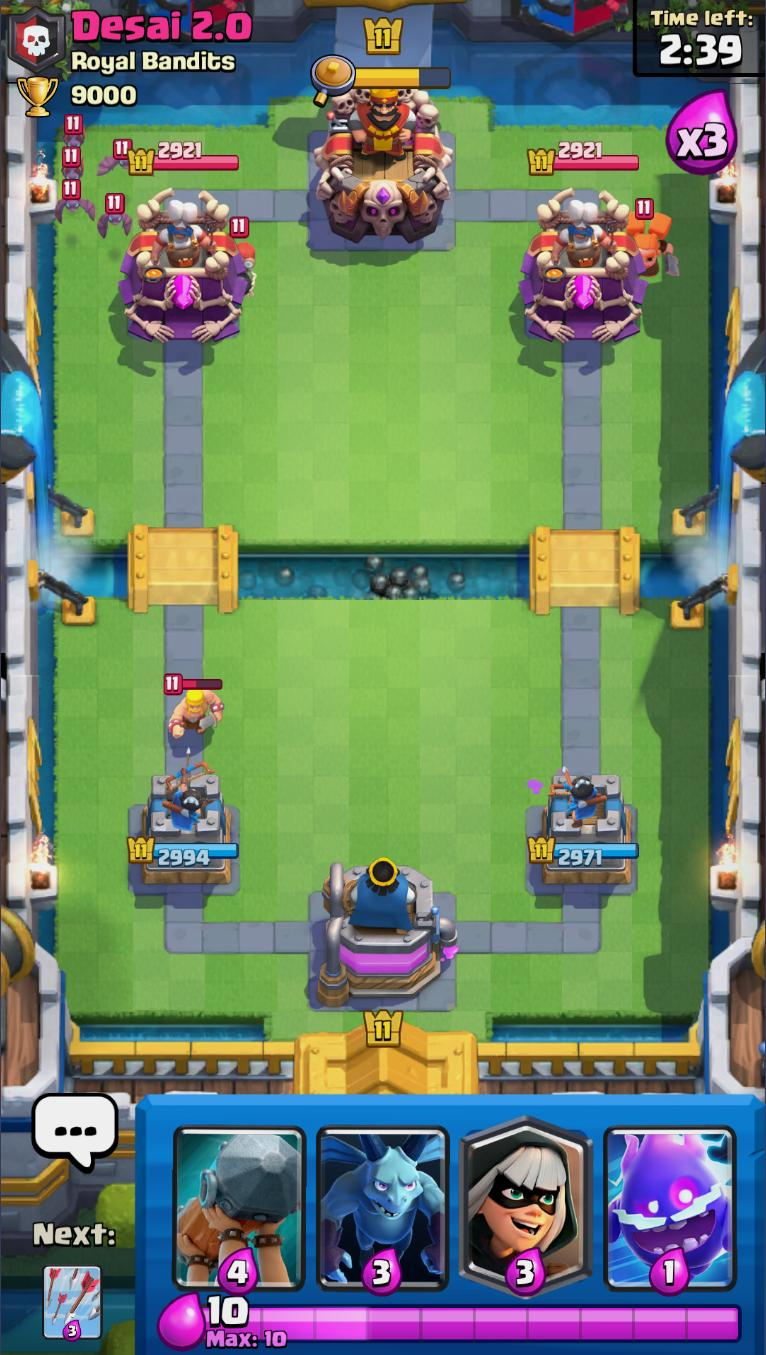ArrowNext: (42, 1263, 104, 1343)
BanditDeck: (450, 1097, 599, 1295)
Barbarian: (158, 674, 229, 742)
Bat: (50, 182, 98, 220), (97, 193, 135, 237), (96, 134, 134, 177), (54, 148, 90, 184), (57, 111, 87, 150)
BattleRamDeck: (173, 1098, 310, 1290)
Berserker: (622, 201, 681, 284)
Bomber: (228, 217, 259, 299)
Chef: (149, 199, 217, 273), (553, 197, 617, 274)
ElectroSpiritDeck: (599, 1097, 744, 1294)
Elixir: (202, 1296, 742, 1349)
EnemyTower: (118, 187, 248, 346), (520, 188, 648, 345)
KingTower: (309, 78, 456, 245)
MinionsDeck: (312, 1097, 453, 1296)
MyKingTower: (316, 858, 458, 1009)
MyPrincessTower: (128, 770, 241, 894), (528, 775, 640, 894)
MyPrincessTowerHP: (126, 835, 240, 869), (527, 835, 641, 869)
TowerPrincessHP: (526, 139, 641, 178), (125, 140, 240, 176)
